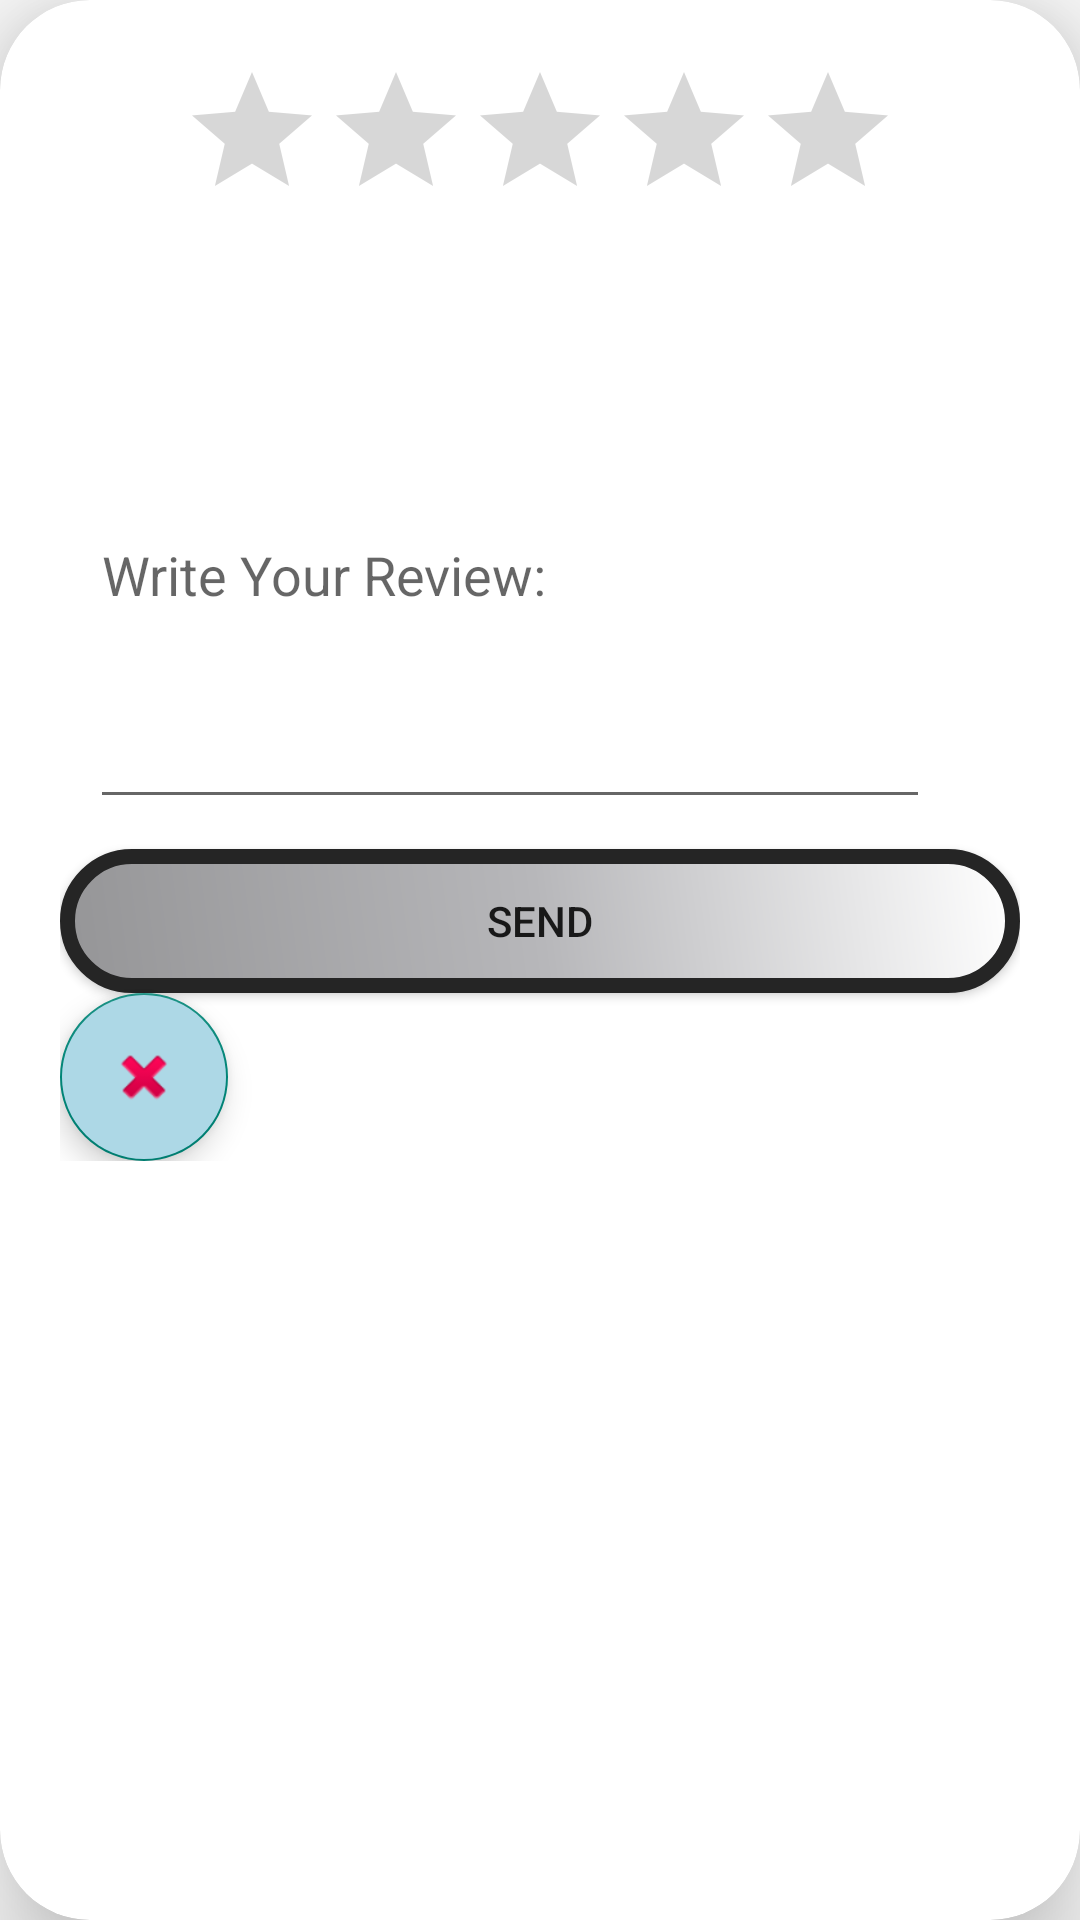

Where icons sit on this 1080px×1920px app screen, as (x1, y1, x2, y2):
delete: (60, 993, 228, 1161)
